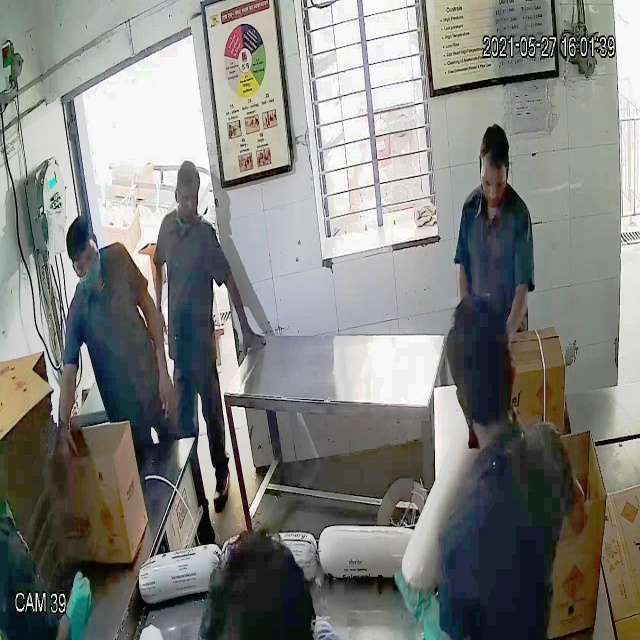Sin_gafas: (67, 244, 107, 276), (479, 166, 511, 196)
